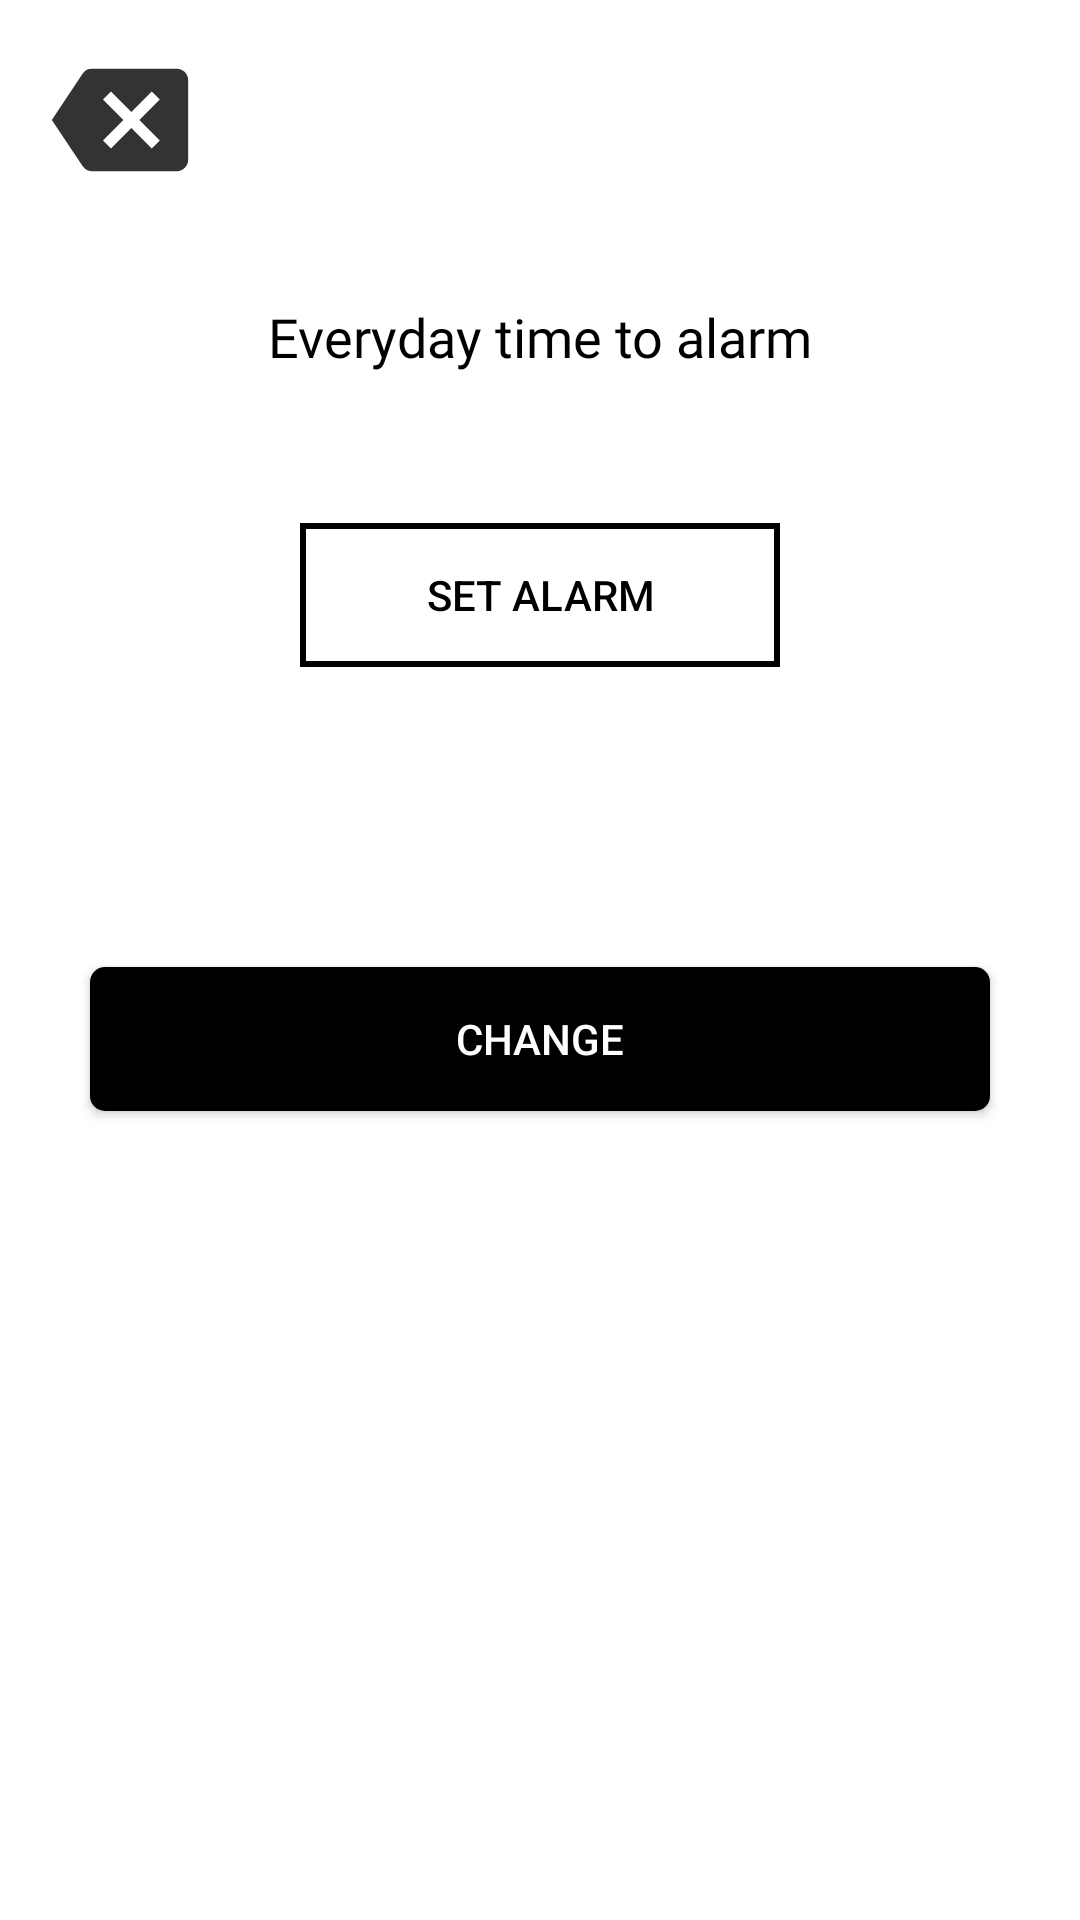

Icons on this 1080x1920 Android screen, each with the point to tap as (x,y):
back: (120,120)
